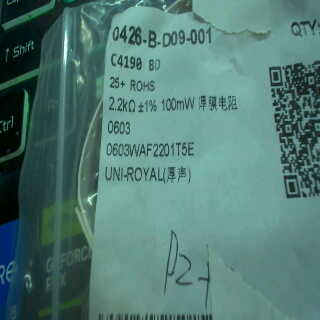2.2kR: (105, 91, 141, 119)
